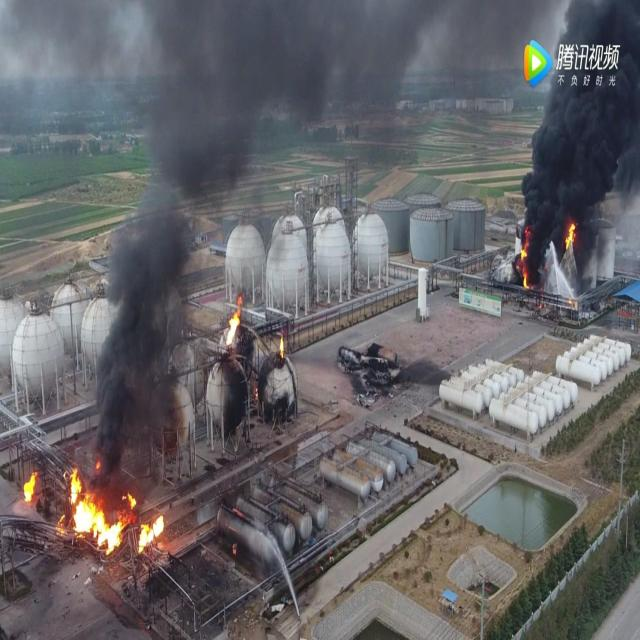fire: (62, 472, 139, 552), (515, 228, 534, 292), (137, 511, 163, 553), (225, 294, 243, 345), (21, 468, 38, 502), (562, 219, 576, 251), (277, 333, 286, 356)
smoke: (1, 0, 531, 468), (522, 1, 640, 280)
